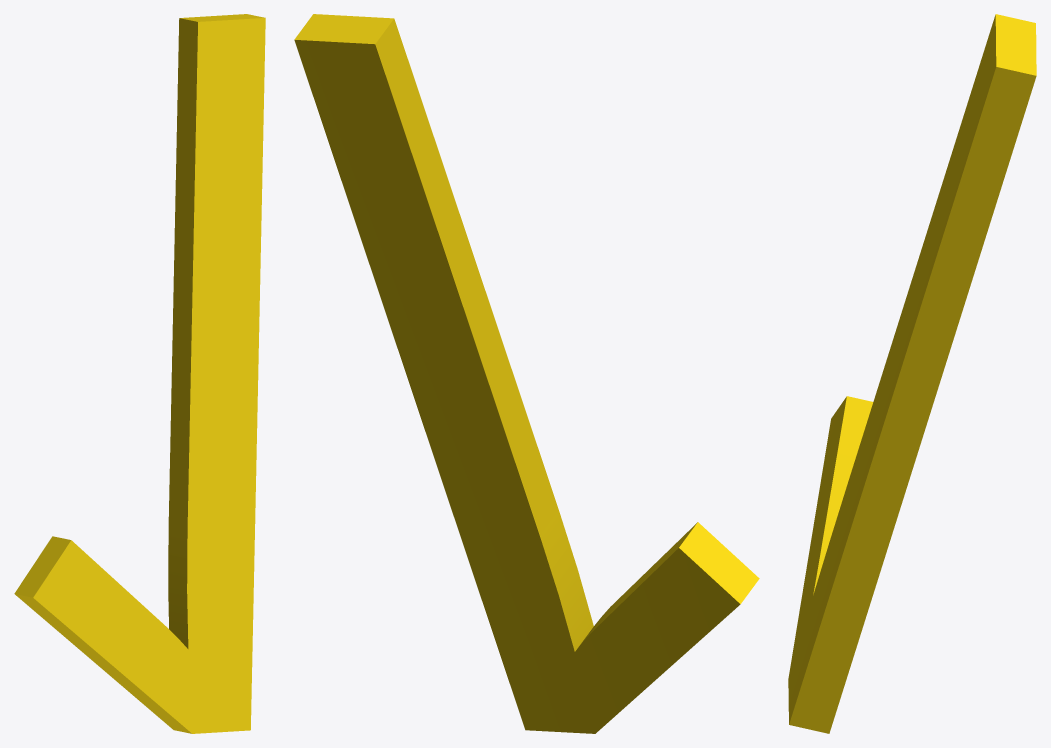
Rendered from Number_1.gltf.
3 renders of one model, left to right at view 1: azimuth 30°, elevation 25°; view 2: azimuth 150°, elevation 25°; view 3: azimuth 270°, elevation 25°, orthographic. The views are drawn at different scales.
Parts seen in each view (by area): view 1: Sub_6_Cell_3_3_Number_1; view 2: Sub_6_Cell_3_3_Number_1; view 3: Sub_6_Cell_3_3_Number_1.
Boxes of the visible parts, x1=… form: Sub_6_Cell_3_3_Number_1: x1=14, y1=14, x2=265, y2=733; Sub_6_Cell_3_3_Number_1: x1=294, y1=14, x2=759, y2=733; Sub_6_Cell_3_3_Number_1: x1=788, y1=14, x2=1036, y2=733.
Bounding box in the file's own units: 0.0124 × 0.0248 × 0.00754.
